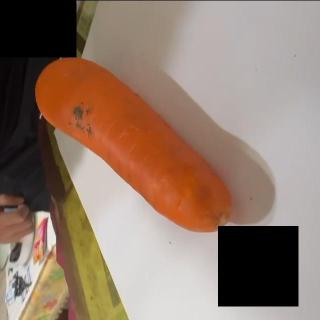carrot: (34, 56, 234, 232)
